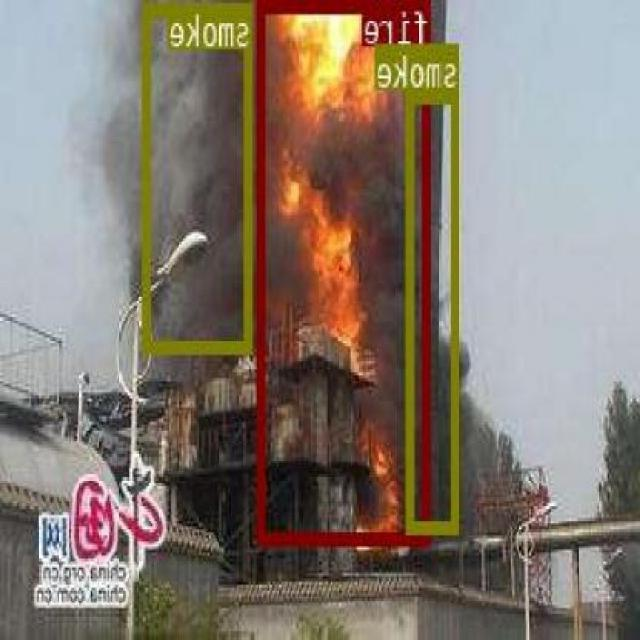Fire: (260, 0, 431, 545)
Smoke: (144, 0, 253, 351), (409, 88, 462, 532)
